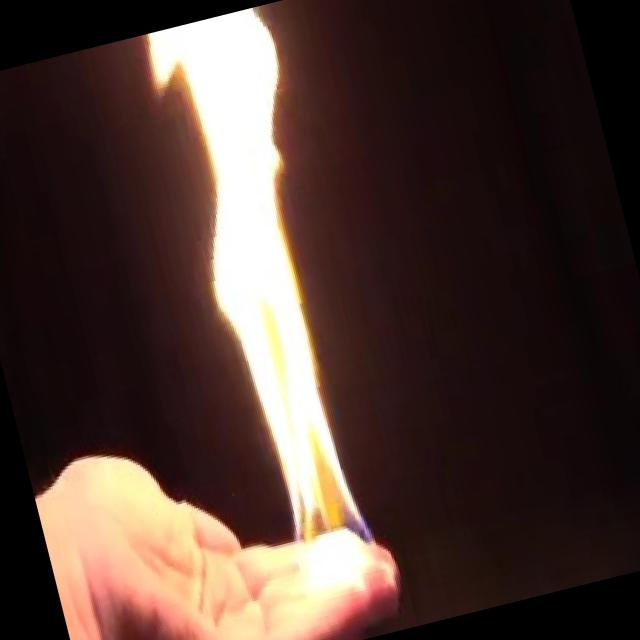Fire: (133, 2, 420, 621)
